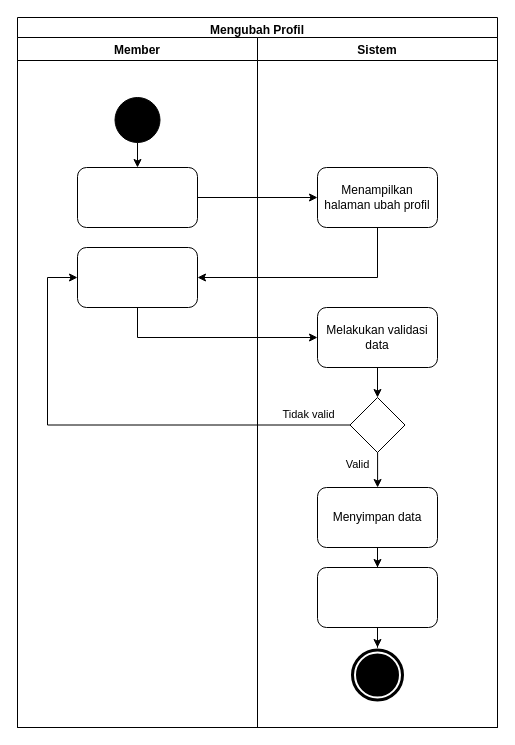
The diagram is 515 pixels wide and 745 high, and some of its shapes have lost their labels. Here are the shapes that lost their labels. From the top down, the centre of each, then its label:
At point (137, 197): "Membuka halaman ubah profil".
At point (137, 277): "Mengisi formulir ubah profil".
At point (377, 597): "Menampilkan halaman profil".
